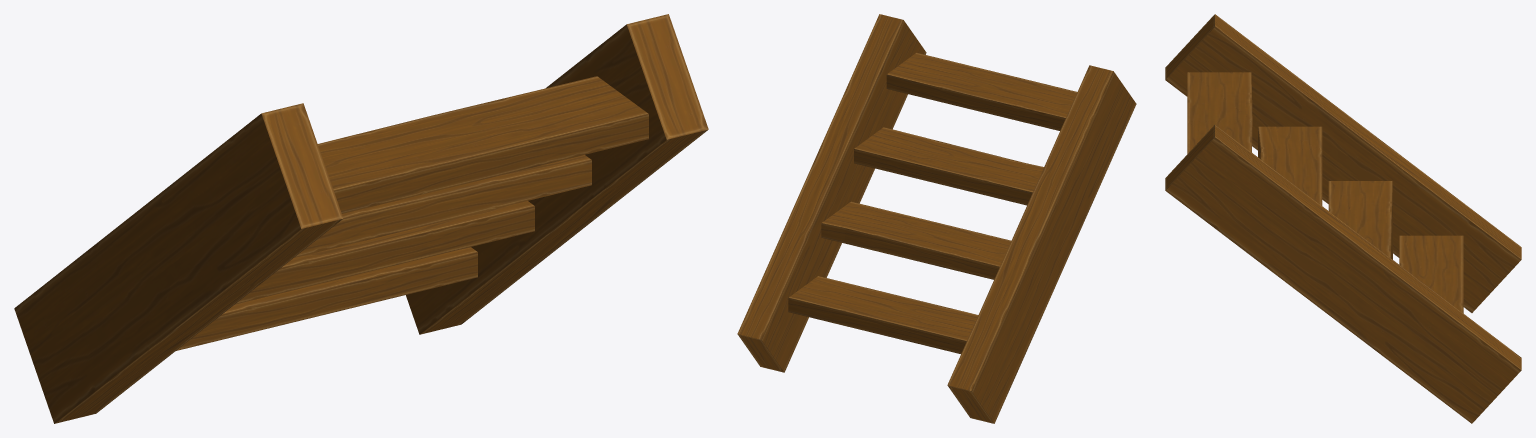
Rendered from SM_Stairs_Interior_A_02.fbx.
3 views of the same model, side by side, from view 1: azimuth 30°, elevation 25°; view 2: azimuth 150°, elevation 25°; view 3: azimuth 270°, elevation 25° (orthographic). The views are drawn at different scales.
Parts seen in each view (by area): view 1: SM_Stairs_Interior_A_02; view 2: SM_Stairs_Interior_A_02; view 3: SM_Stairs_Interior_A_02.
Boxes of the visible parts, x1=… form: SM_Stairs_Interior_A_02: x1=14, y1=14, x2=708, y2=423; SM_Stairs_Interior_A_02: x1=737, y1=14, x2=1136, y2=423; SM_Stairs_Interior_A_02: x1=1165, y1=14, x2=1521, y2=423.
Bounding box in the file's own units: 1.7 × 1.84 × 2.08.
